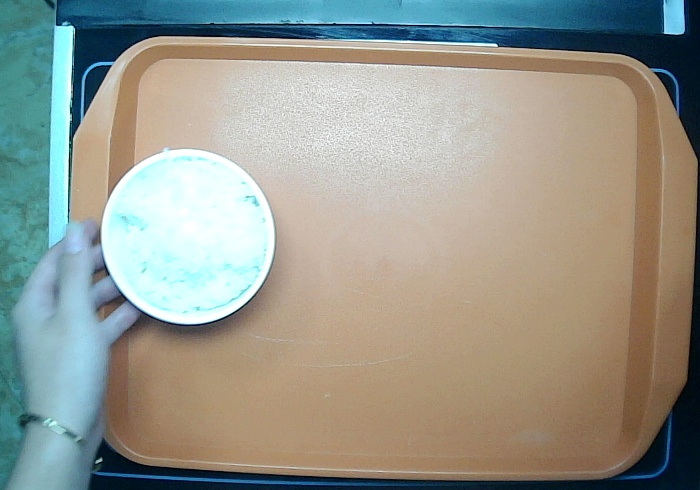HZYJPL-Fan_Wan: (100, 146, 277, 326)
